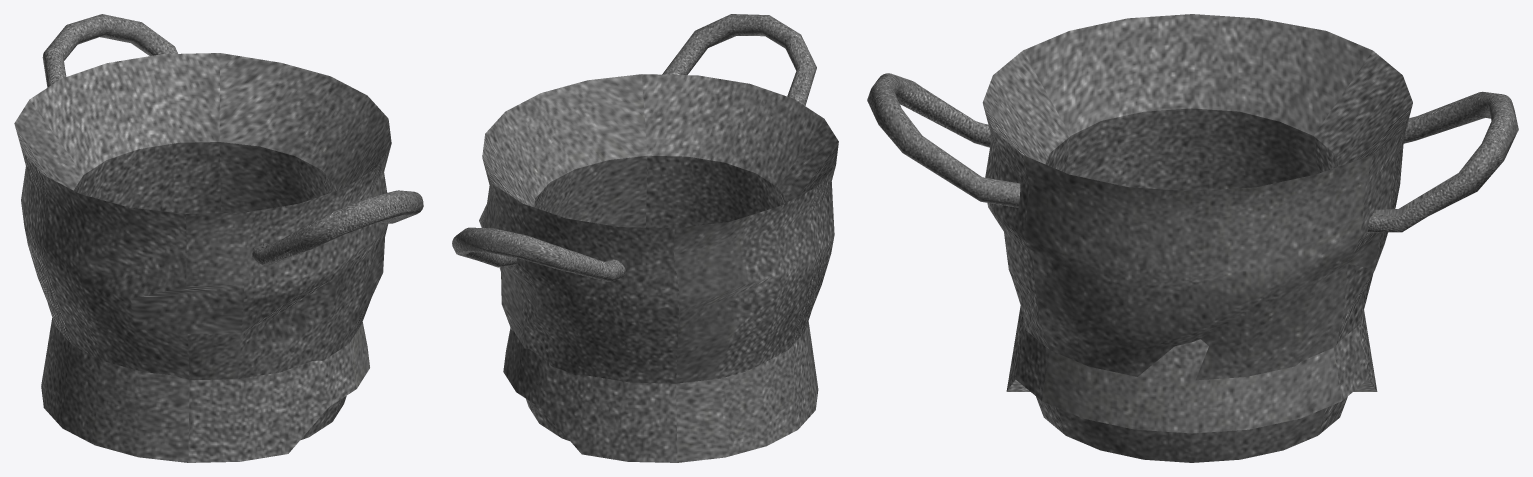
File: cubeta 1.fbx
3 renders of one model, left to right at view 1: azimuth 30°, elevation 25°; view 2: azimuth 150°, elevation 25°; view 3: azimuth 270°, elevation 25°, orthographic. The views are drawn at different scales.
Parts seen in each view (by area): view 1: polySurface3; view 2: polySurface3; view 3: polySurface3.
Boxes of the visible parts, bbox=[...] form: polySurface3: bbox=[14, 14, 423, 462]; polySurface3: bbox=[452, 14, 838, 462]; polySurface3: bbox=[867, 14, 1518, 462].
Size of the model in its own units: 0.5014 by 0.4344 by 0.7784.
Materials: 1 (1 with a texture image).
